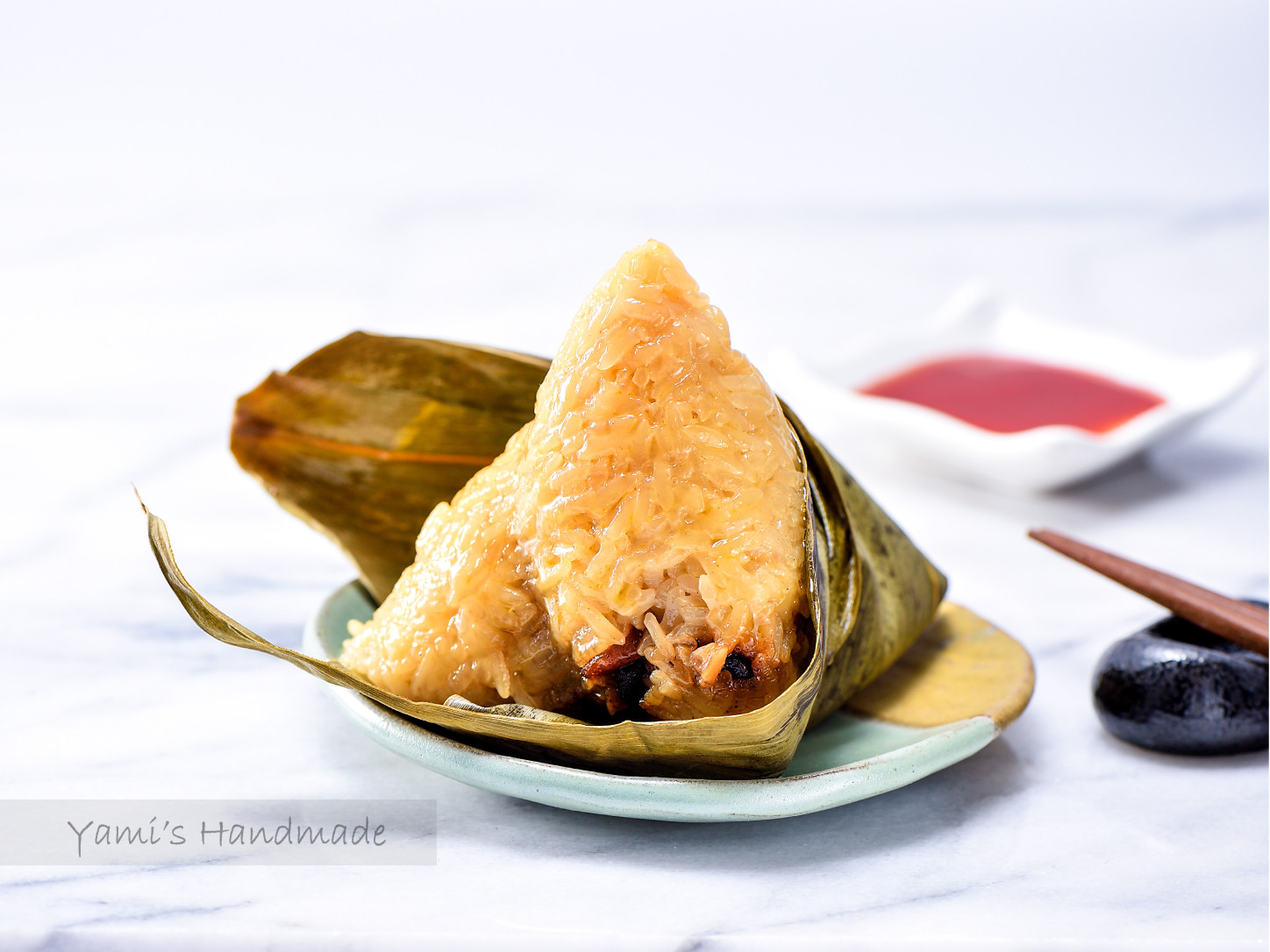zongzi: (339, 241, 809, 719)
